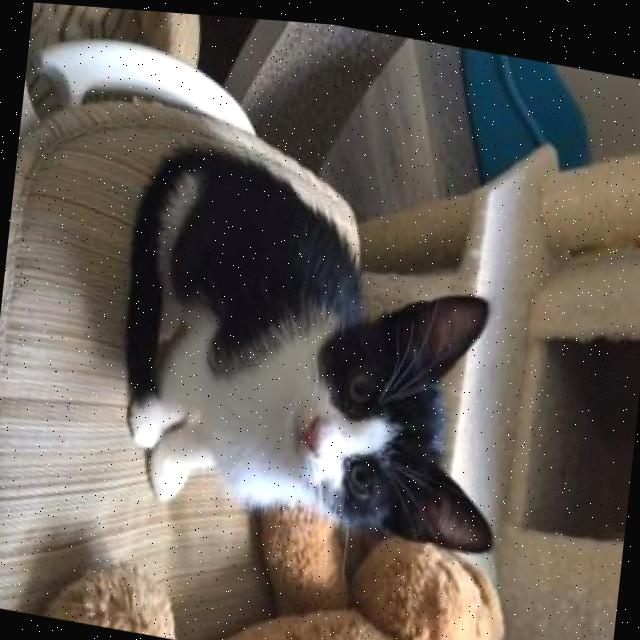Tuxedo: (100, 124, 532, 560)
